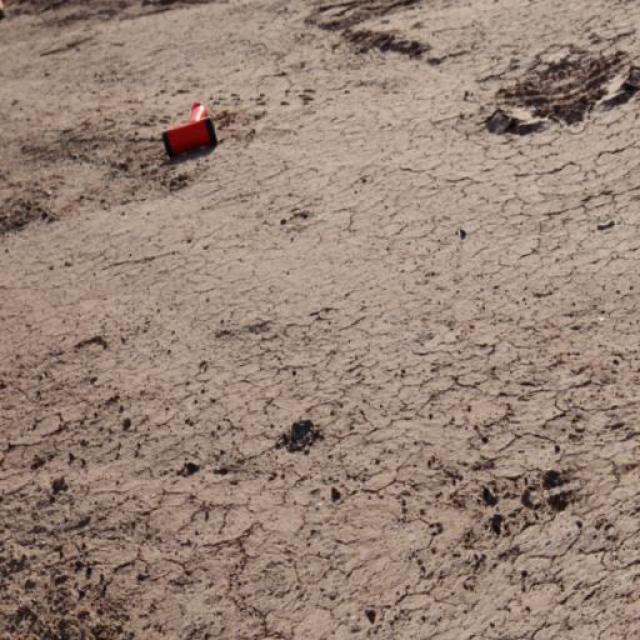mallet: (160, 100, 218, 158)
